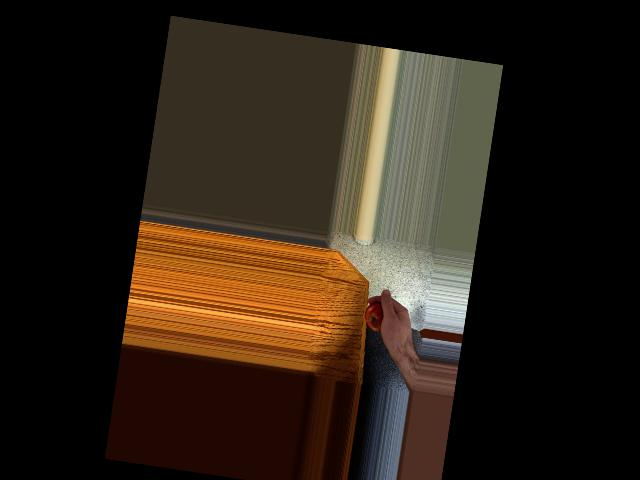apple: (360, 297, 393, 328)
